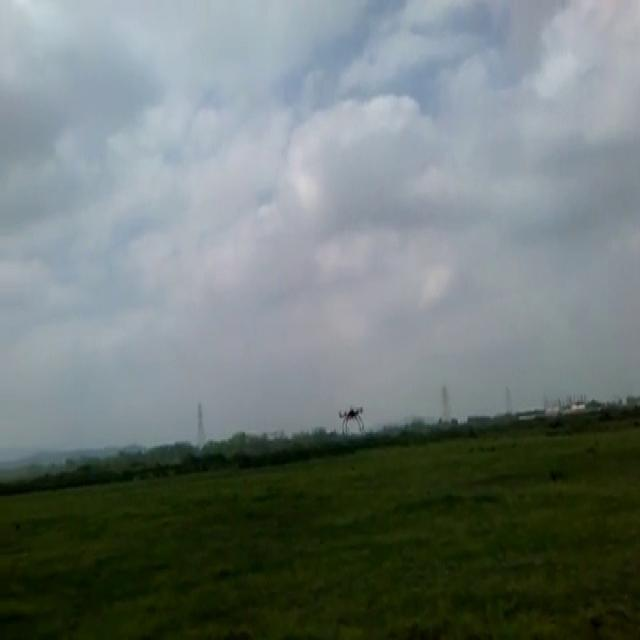drone: (337, 400, 367, 436)
